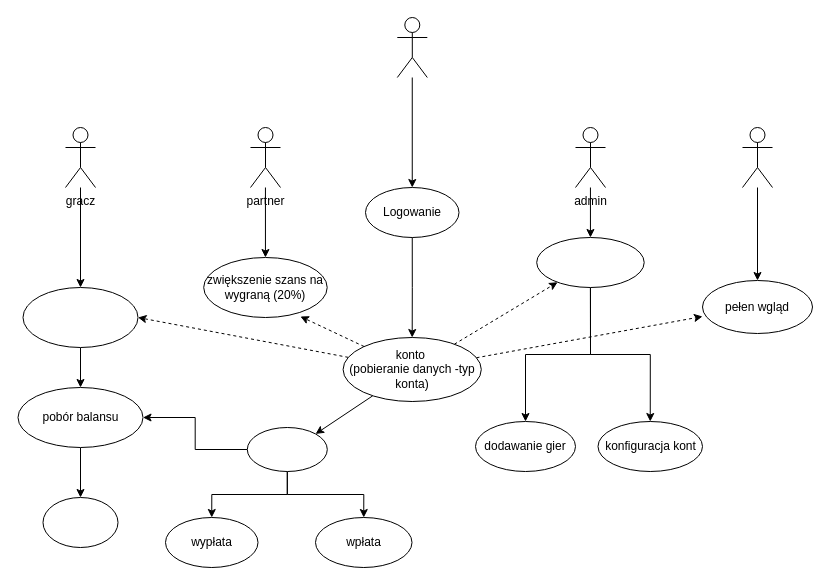
Some shapes in this 830 by 585 pixel diagram are drawn without their labels. The shapes that lost their labels are listed below. From the top down, each one's centre as x and y in pixels, then its label:
(411,47): user
(757,157): owner
(590,262): zarządzanie aplikacją/stroną
(80,317): wybór gry
(286,449): balans
(80,522): gra
